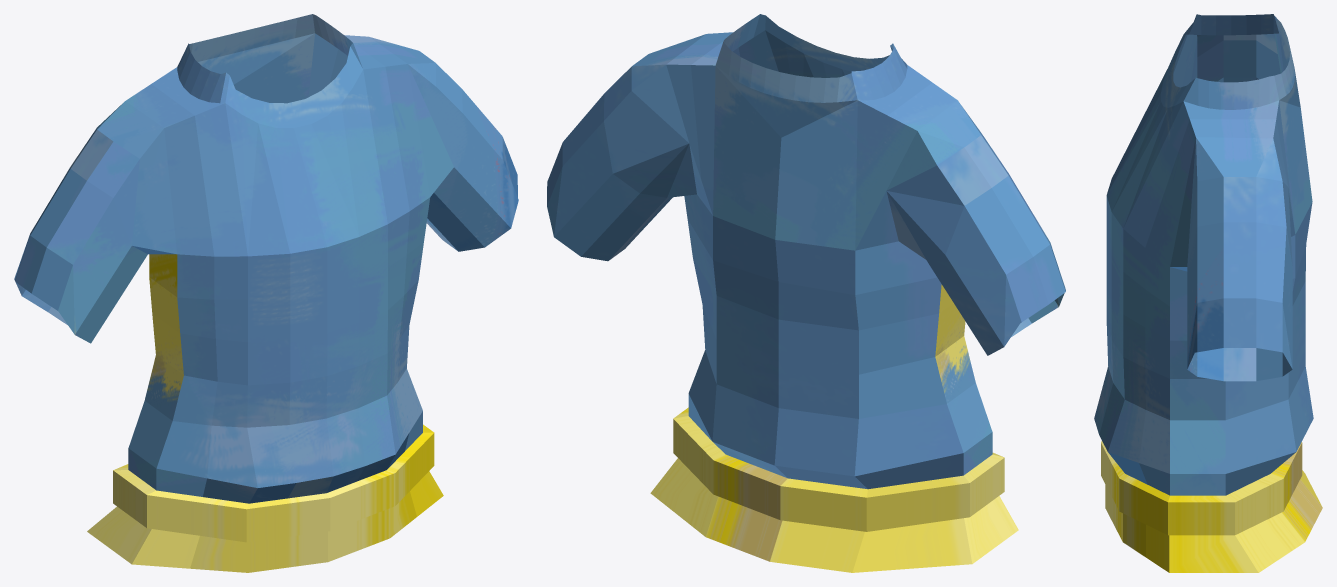
File: personaje 2 test.glb
3 renders of one model, left to right at view 1: azimuth 30°, elevation 25°; view 2: azimuth 150°, elevation 25°; view 3: azimuth 270°, elevation 25°, orthographic. The views are drawn at different scales.
Parts seen in each view (by area): view 1: Cylinder.002; view 2: Cylinder.002; view 3: Cylinder.002.
Boxes of the visible parts, x1,y1,x2,y2 form: Cylinder.002: (14,14,518,572); Cylinder.002: (547,14,1065,572); Cylinder.002: (1094,14,1322,572).
Size of the model in its own units: 1.24 by 1.15 by 0.5099.
Materials: 1 (1 with a texture image).
